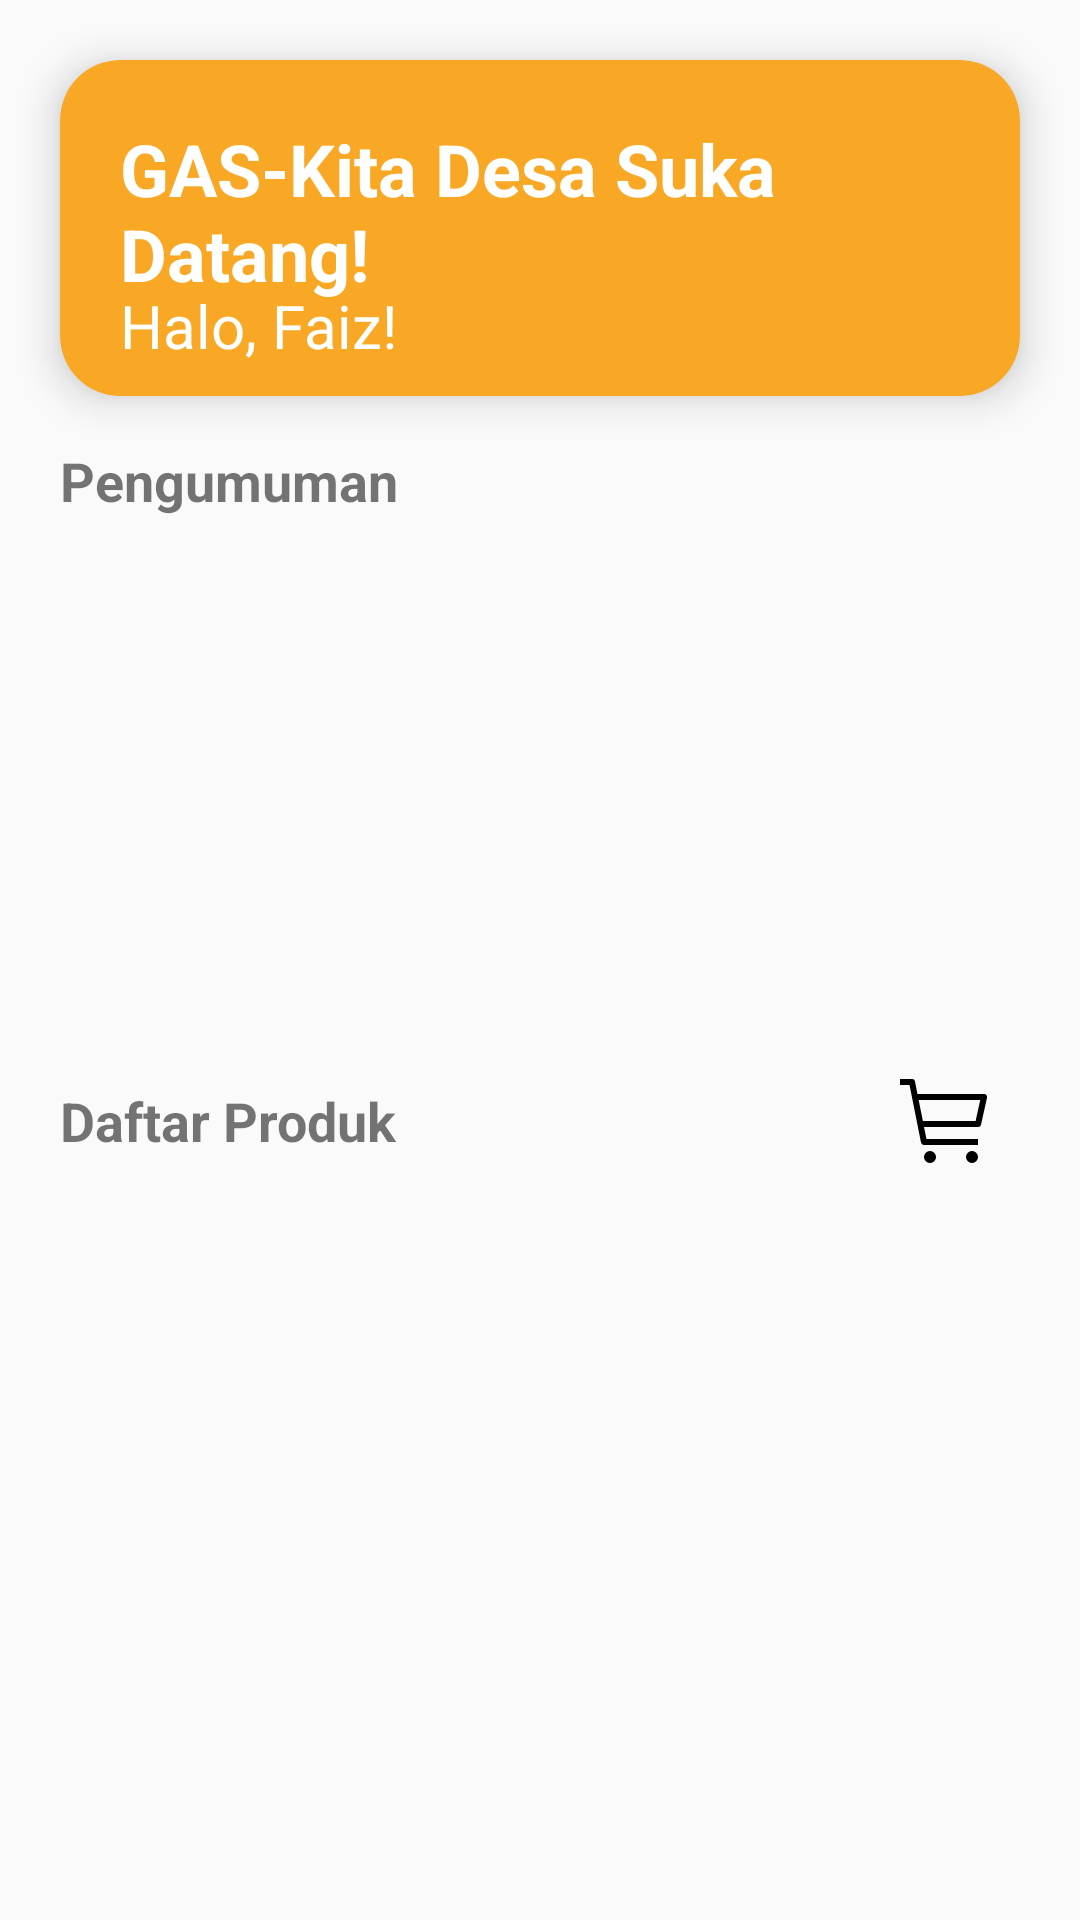

Named icons in this screenshot (1080w x 1920h) and their centers, (x,y):
carbon shopping cart: (943,1121)
